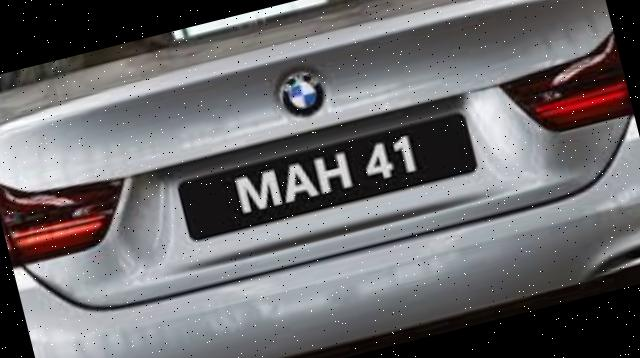License_Plate: (171, 95, 500, 271)
